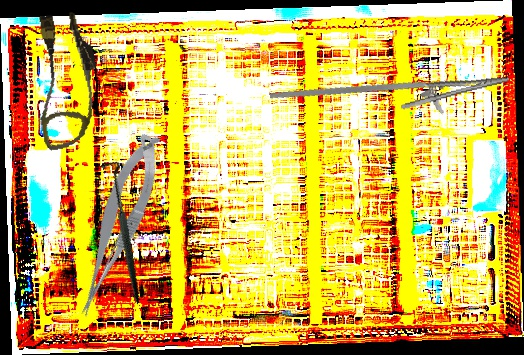Cannula: (22, 8, 110, 152)
Hook Surgical: (63, 157, 179, 305)
Micro Scissor: (54, 127, 179, 322)
Needle Holder: (268, 46, 514, 147)
